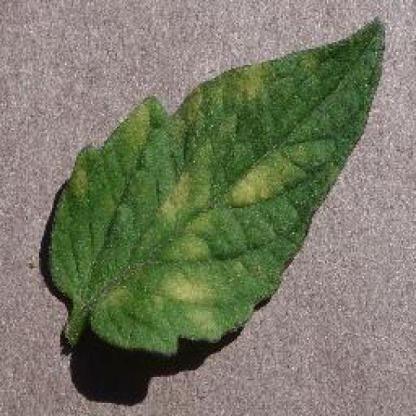Tomato_Leaf_Mold: (65, 18, 383, 347)
